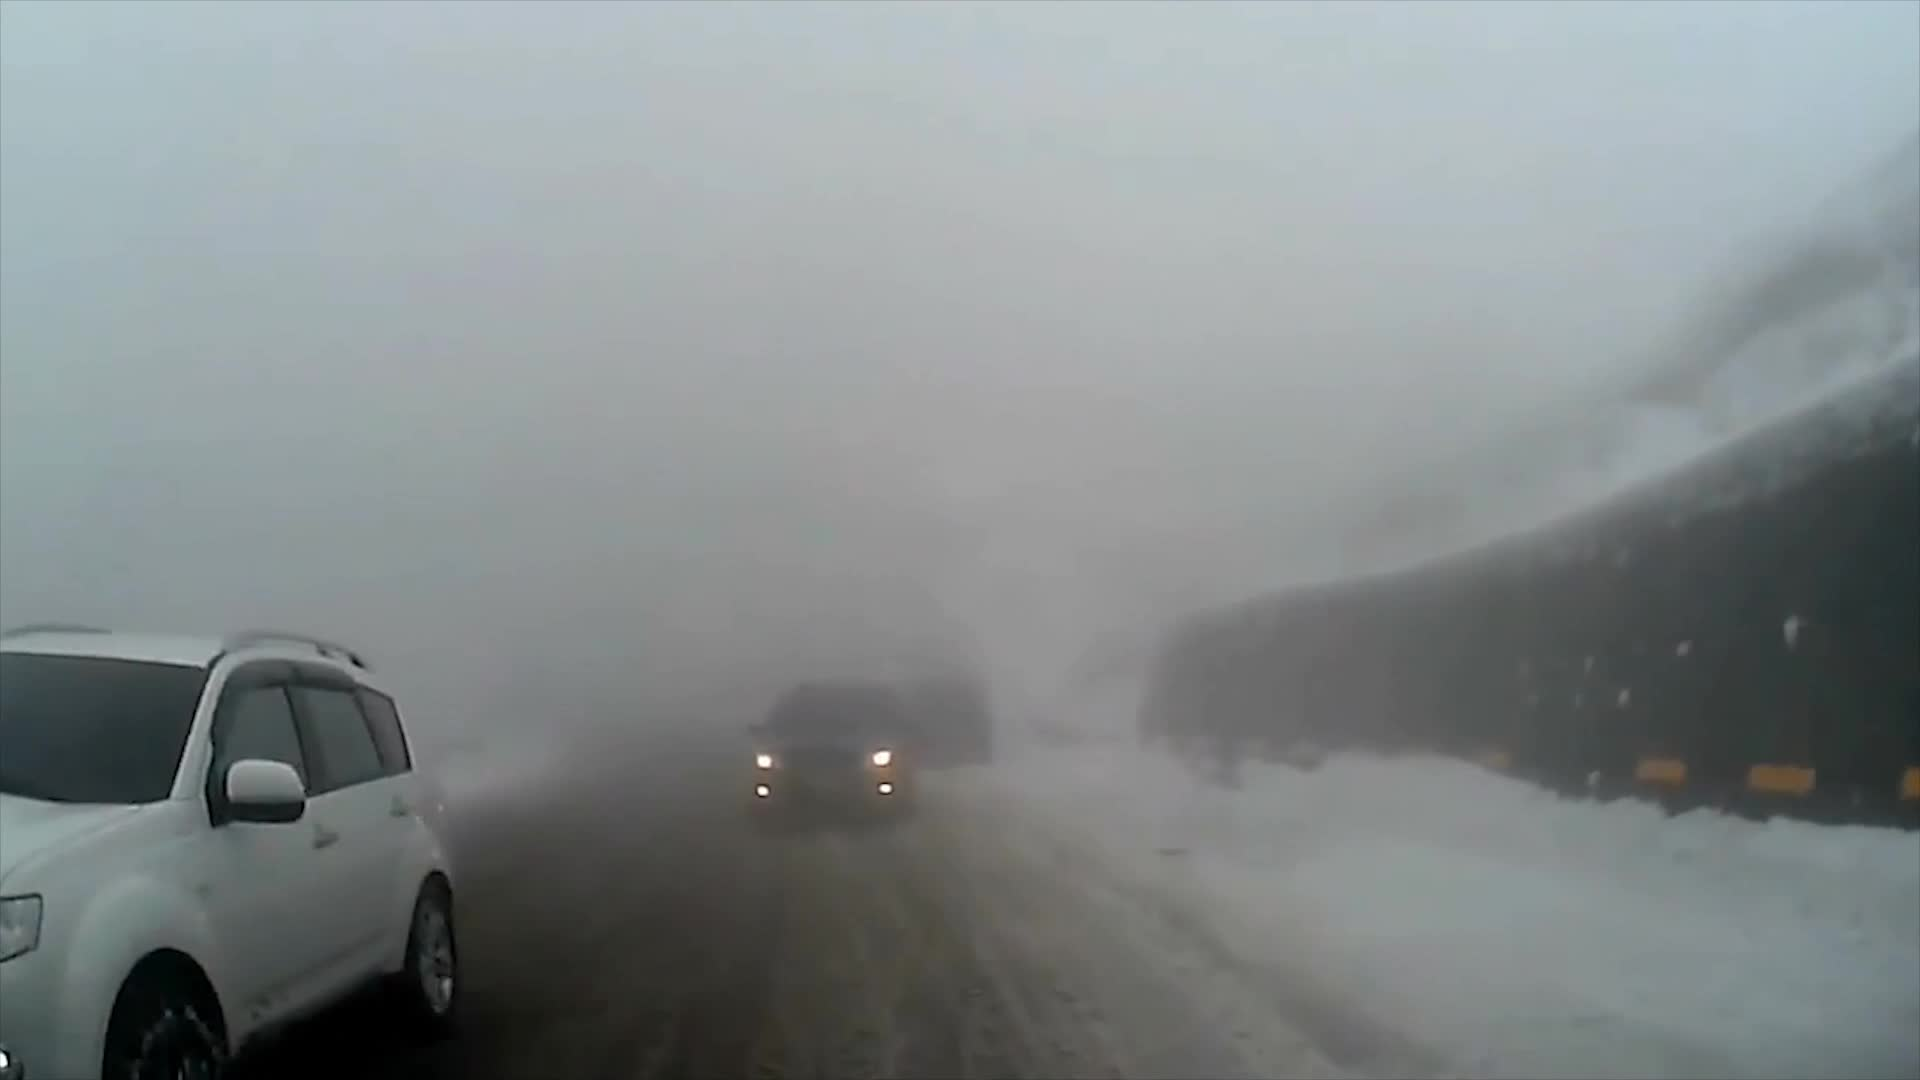vehicle: (0, 618, 464, 1080), (742, 678, 920, 832)
